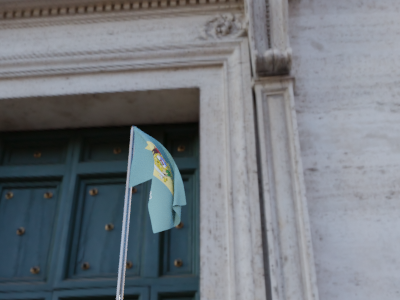Delaware flag: (127, 125, 189, 234)
